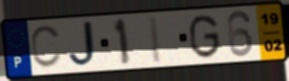1: (111, 17, 133, 68)
6: (225, 9, 255, 59)
C: (29, 23, 64, 71)
G: (188, 12, 222, 61)
I: (147, 15, 164, 65)
J: (67, 19, 102, 70)
